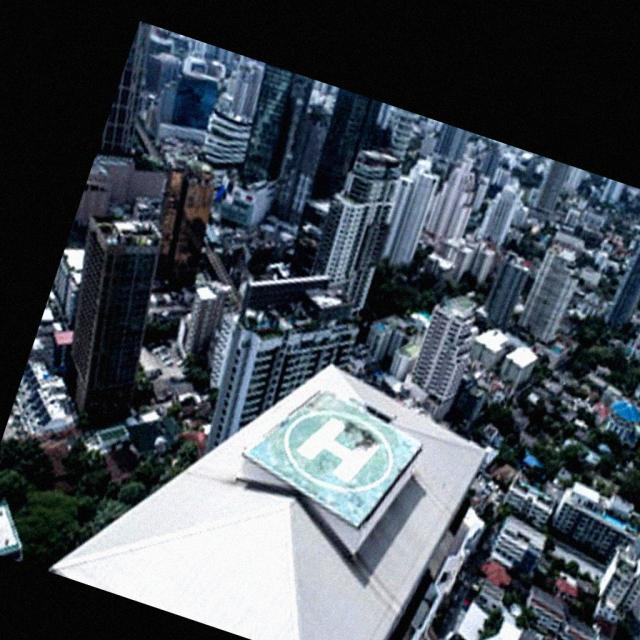helipad: (278, 405, 399, 497)
